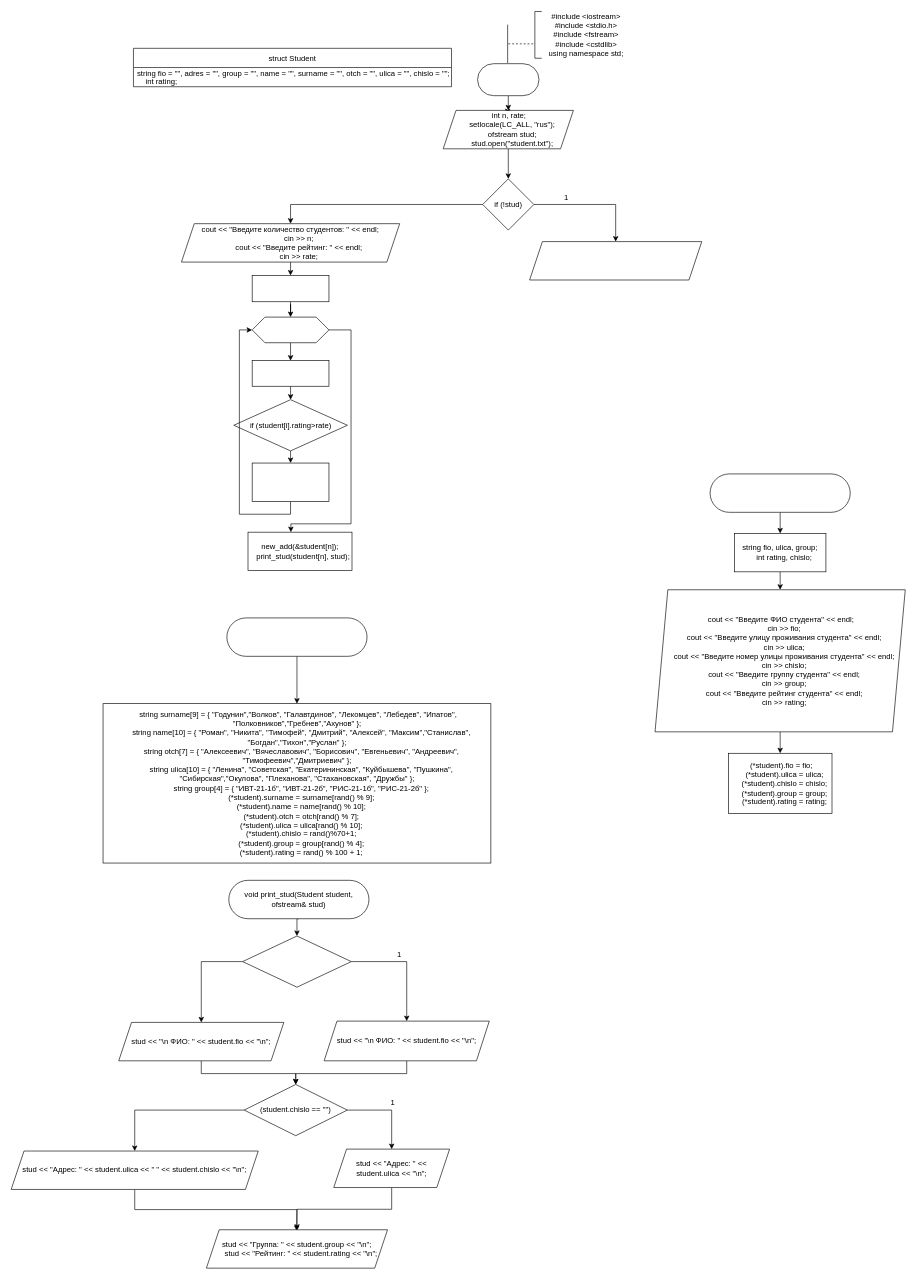
This 916x1279 diagram has some shape labels left out. The shapes that lost their labels are listed below. From the top down, each one's centre as x and y in pixels, then its label:
point 508,79: int main()
point 615,260: perror("\n Ошибка в открытии файла"); exit(1);
point 290,288: Student* student = new Student[n+1];
point 290,329: for (int i = 0; i < n; i++)
point 290,373: objstruct(&student[i]);
point 290,481: print_stud(student[i], stud);
point 779,492: void new_add(Student* student)
point 296,636: void objstruct(Student* student)
point 296,961: if (student.surname == "")
